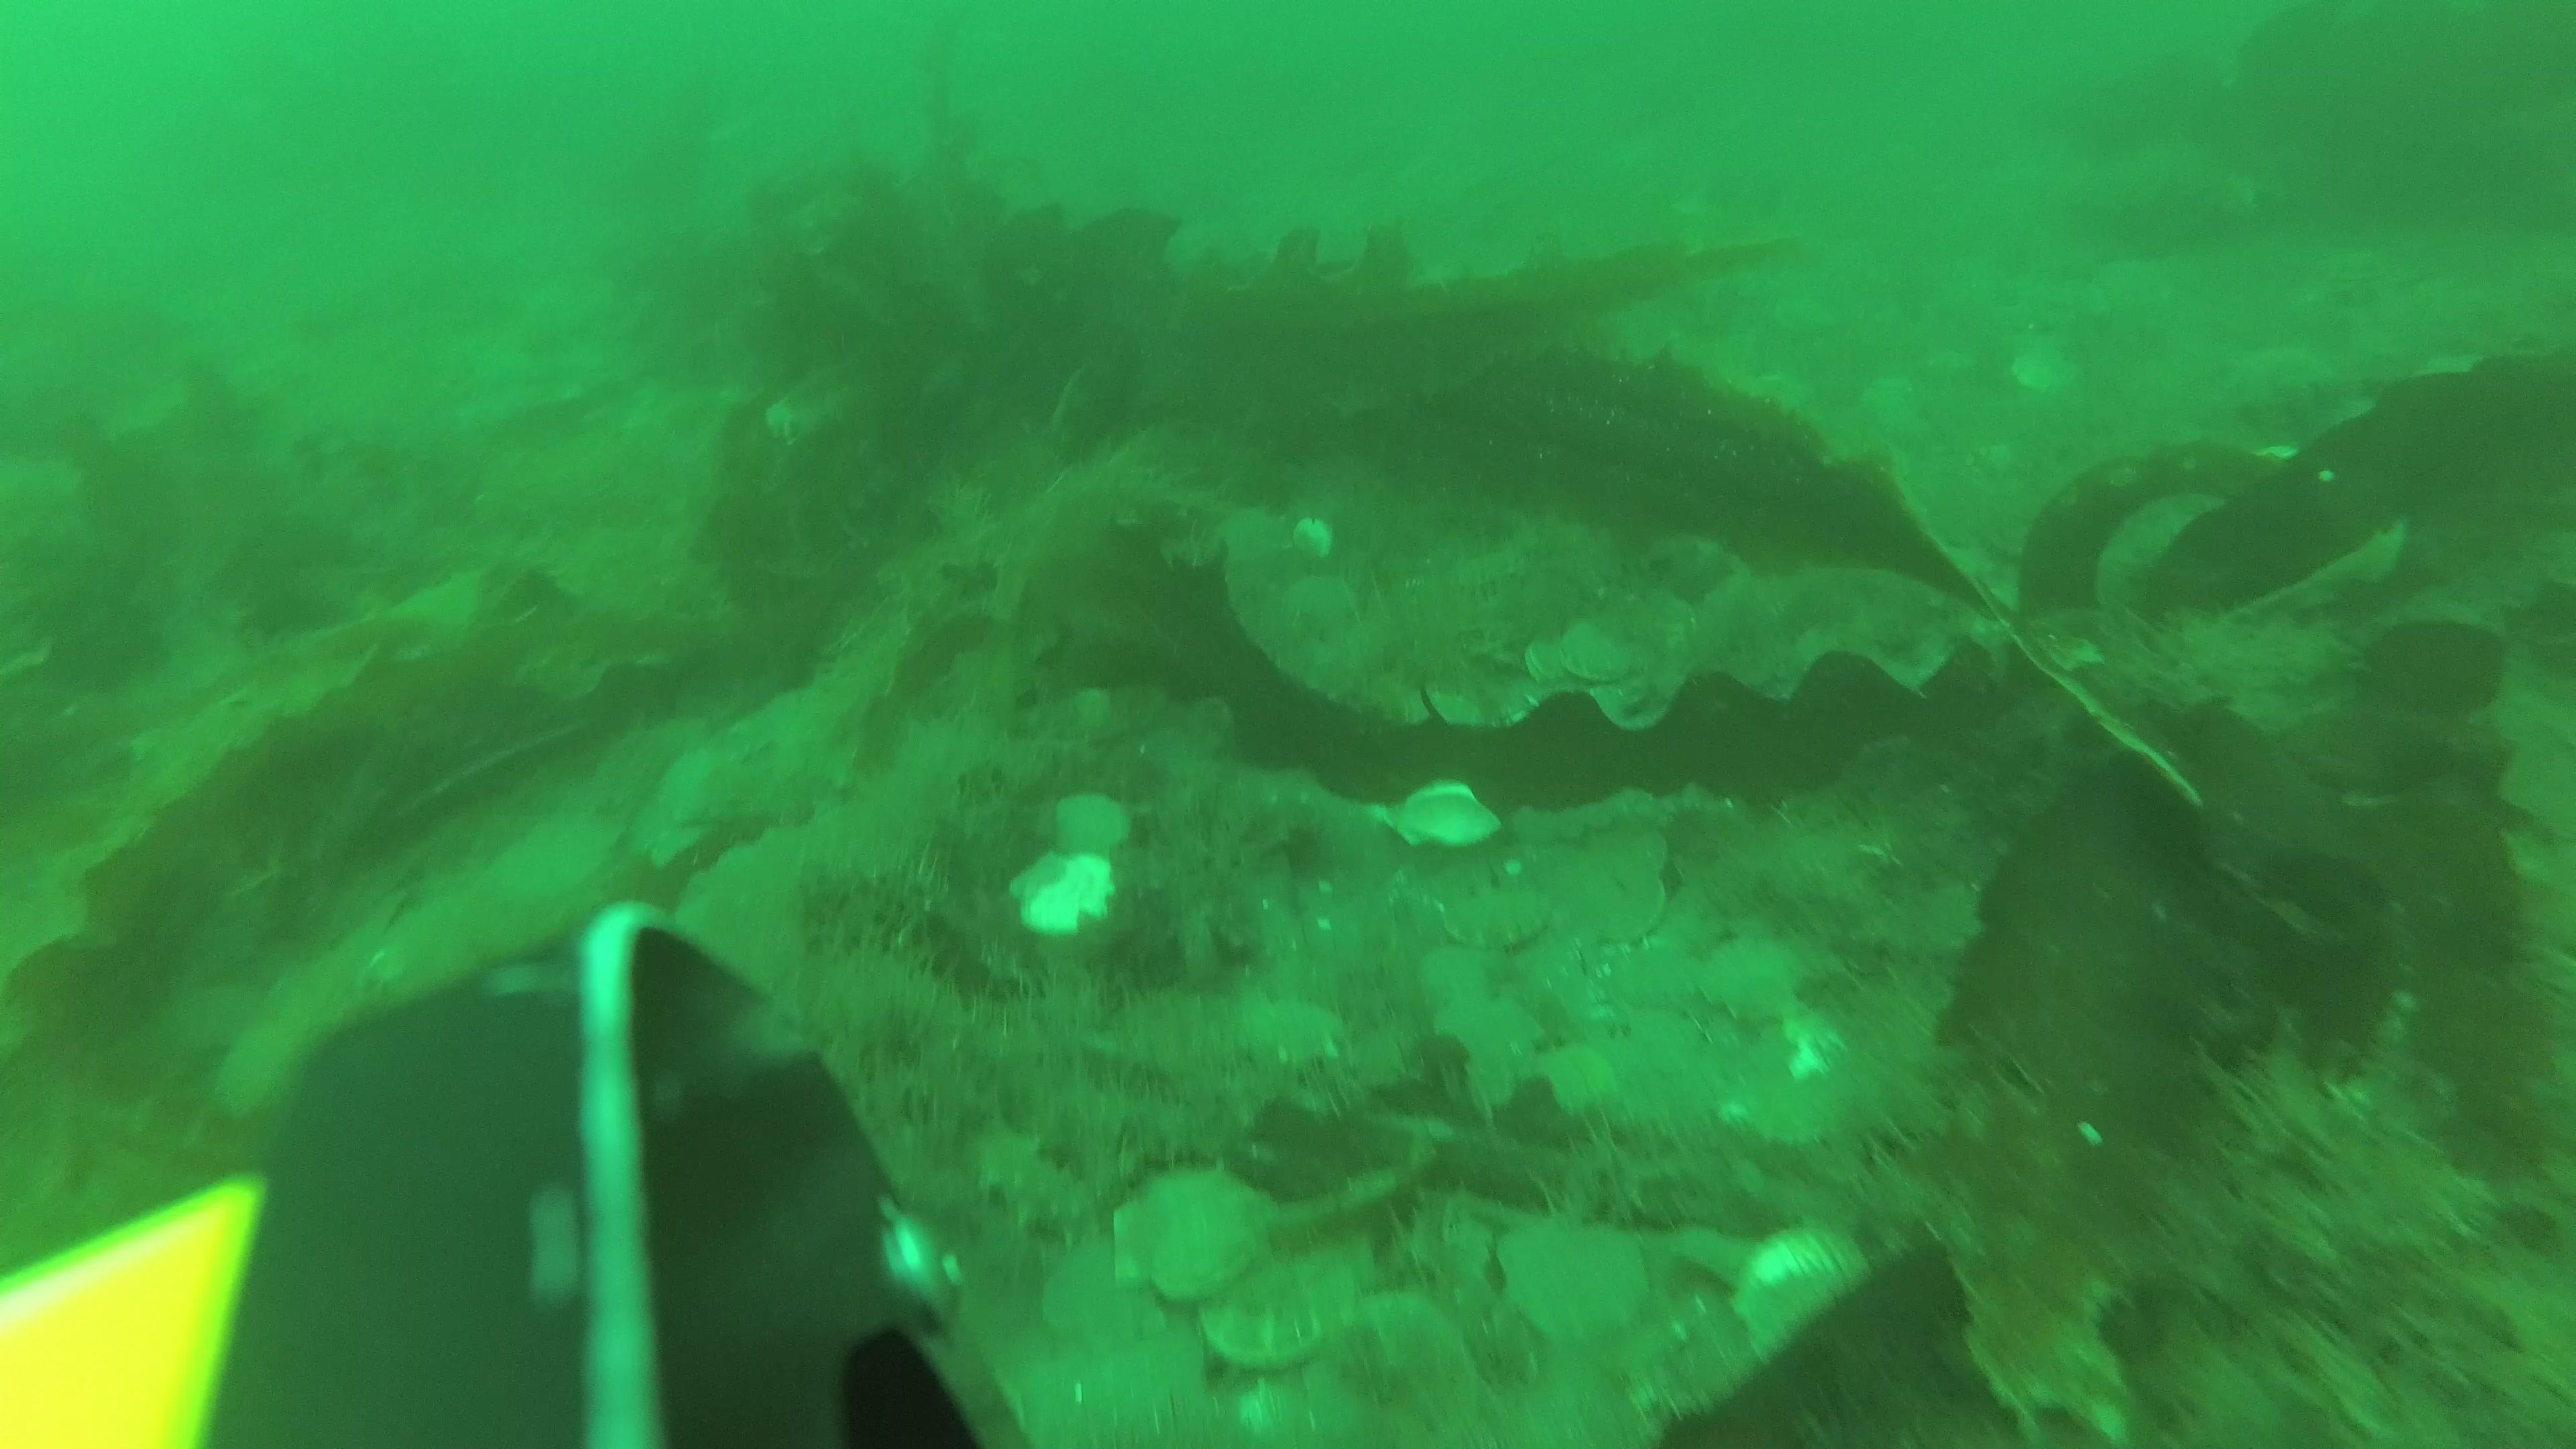holothurian: (962, 1116, 1108, 1258)
scallop: (1104, 1155, 1269, 1307), (1491, 1208, 1658, 1346), (1196, 1237, 1362, 1364), (1737, 1219, 1872, 1355), (1718, 1042, 1856, 1150), (1000, 842, 1127, 945), (1371, 771, 1511, 856), (1421, 994, 1553, 1083), (1691, 938, 1817, 1028), (1238, 985, 1350, 1076), (1438, 886, 1557, 959), (653, 741, 748, 826), (1580, 869, 1672, 948), (1557, 616, 1647, 688), (1047, 789, 1134, 863), (1276, 570, 1366, 632), (1605, 823, 1672, 888), (2010, 345, 2084, 398), (1514, 637, 1569, 686)
